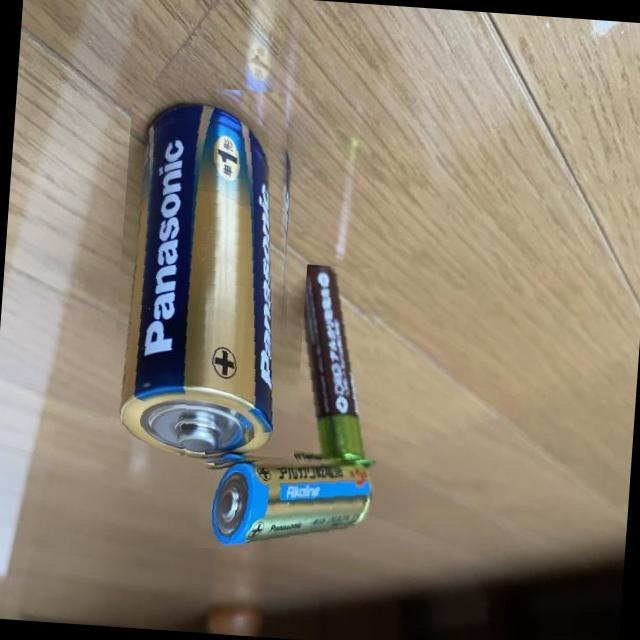Hazard: (106, 81, 313, 472), (291, 263, 390, 482), (189, 446, 379, 558)
